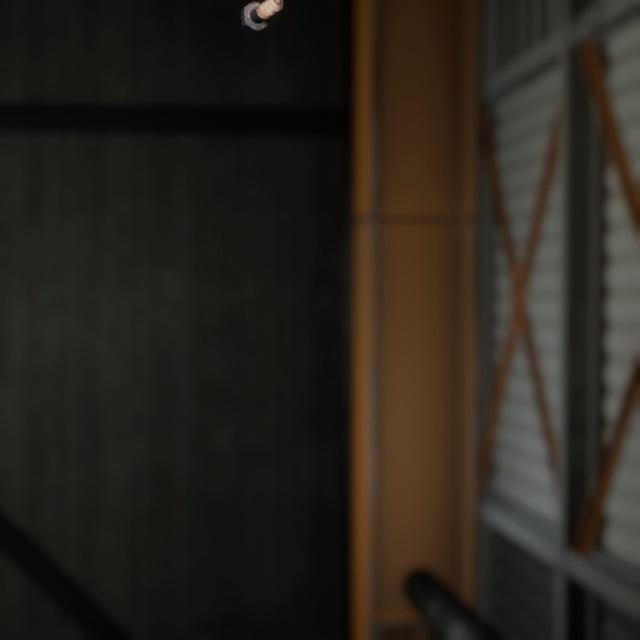bolt: (236, 0, 286, 29)
